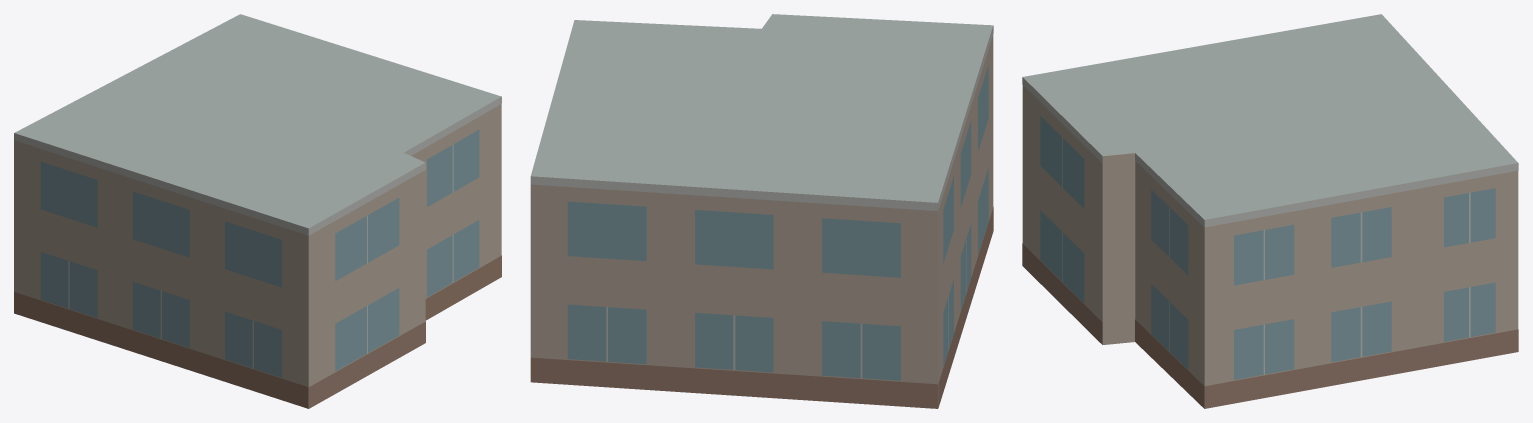
File: survey-upis-32900928.glb
3 views of the same model, side by side, from view 1: azimuth 30°, elevation 25°; view 2: azimuth 150°, elevation 25°; view 3: azimuth 270°, elevation 25° (orthographic). The views are drawn at different scales.
Visible parts, largest first — view 1: survey-upis-32900928.tmp; view 2: survey-upis-32900928.tmp; view 3: survey-upis-32900928.tmp.
Boxes of the visible parts, left/top/right/bottom form: survey-upis-32900928.tmp: left=14, top=14, right=501, bottom=408; survey-upis-32900928.tmp: left=530, top=14, right=993, bottom=408; survey-upis-32900928.tmp: left=1022, top=14, right=1518, bottom=408.
Bounding box in the file's own units: 14.27 × 6.1 × 14.53.
